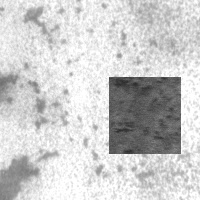pitted_surface: (63, 1, 200, 198), (1, 1, 62, 198)
rolled-in_scale: (109, 77, 181, 154)
